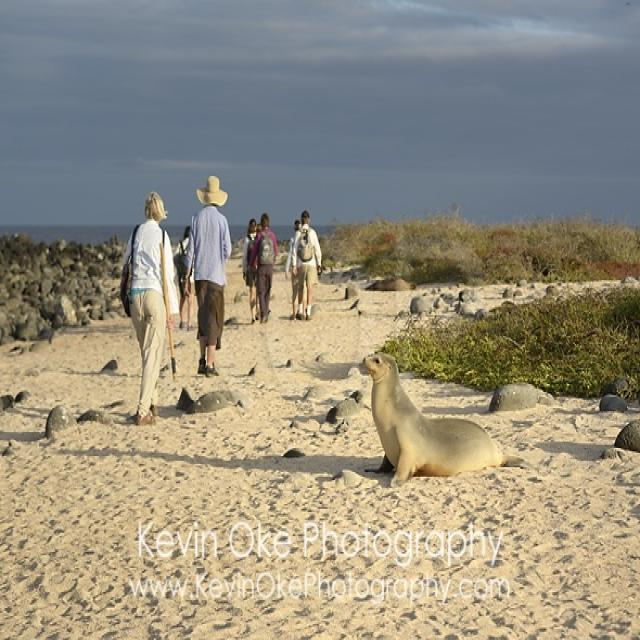body: (116, 184, 177, 429), (181, 171, 233, 379), (288, 208, 324, 323), (247, 210, 281, 324), (172, 222, 198, 333), (241, 216, 261, 326), (284, 218, 304, 324), (253, 219, 261, 322)
